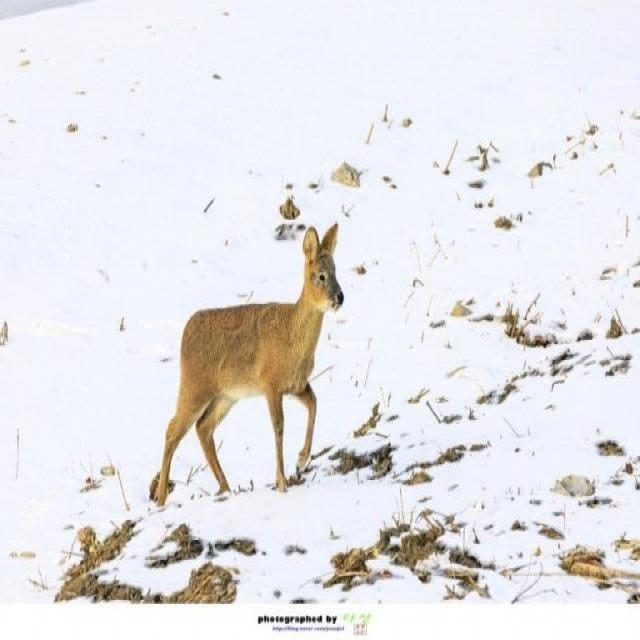deer: (136, 217, 360, 534)
